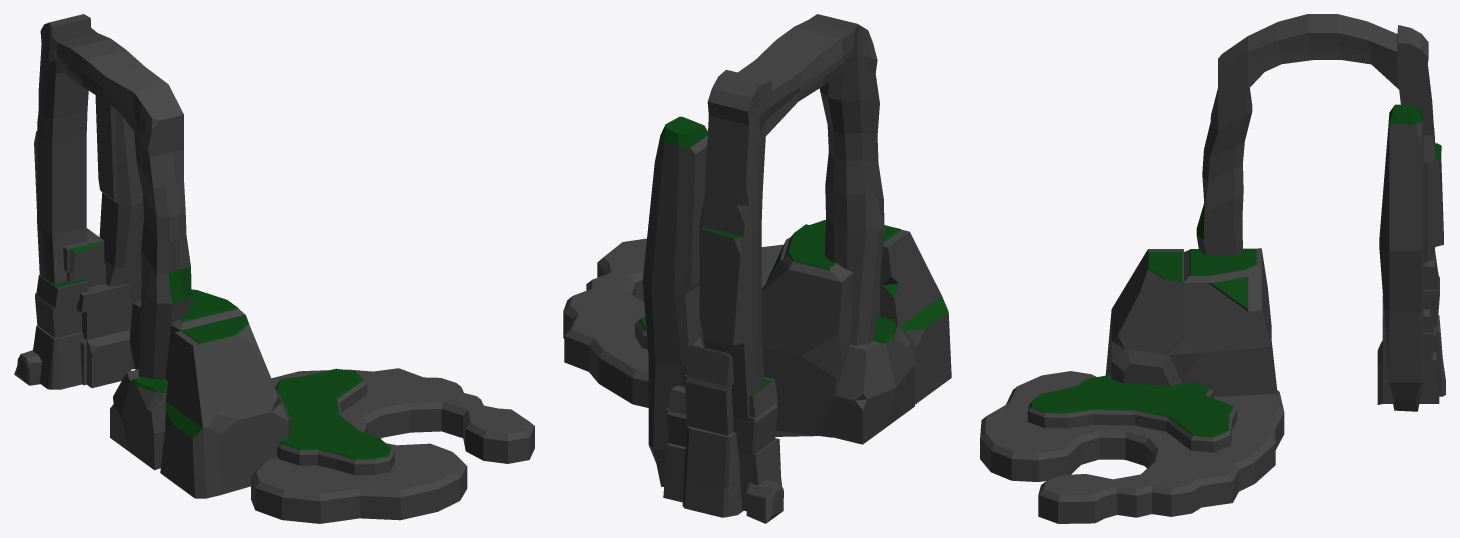
File: stone_arch_1.glb
The picture shows the model from 3 angles, left to right: view 1: azimuth 30°, elevation 25°; view 2: azimuth 150°, elevation 25°; view 3: azimuth 270°, elevation 25°; orthographic projection. The views are drawn at different scales.
Parts seen in each view (by area): view 1: Plane, Cube.005, Cube.007, Cube.003, Cube.001, Cube.002, Cube.006, Cube, Cube.004; view 2: Cube.005, Cube.007, Cube.003, Plane, Cube, Cube.006, Cube.002, Cube.001, Cube.004; view 3: Plane, Cube.007, Cube.005, Cube.003, Cube.001, Cube.
Part boxes in pixels (left/top/right/bottom): Plane: left=251, top=368, right=534, bottom=523; Cube.005: left=34, top=14, right=191, bottom=379; Cube.007: left=129, top=289, right=290, bottom=498; Cube.003: left=95, top=95, right=143, bottom=369; Cube.001: left=76, top=283, right=131, bottom=387; Cube.002: left=33, top=274, right=88, bottom=389; Cube.006: left=110, top=369, right=168, bottom=470; Cube: left=63, top=228, right=105, bottom=287; Cube.004: left=14, top=350, right=42, bottom=385; Cube.005: left=699, top=14, right=884, bottom=420; Cube.007: left=761, top=220, right=951, bottom=437; Cube.003: left=642, top=116, right=707, bottom=486; Plane: left=563, top=238, right=817, bottom=436; Cube: left=682, top=337, right=743, bottom=517; Cube.006: left=822, top=316, right=914, bottom=444; Cube.002: left=733, top=377, right=781, bottom=511; Cube.001: left=663, top=385, right=687, bottom=502; Cube.004: left=746, top=480, right=783, bottom=523; Plane: left=980, top=371, right=1284, bottom=523; Cube.007: left=1105, top=248, right=1277, bottom=396; Cube.005: left=1196, top=14, right=1443, bottom=262; Cube.003: left=1379, top=104, right=1423, bottom=411; Cube.001: left=1377, top=295, right=1439, bottom=404; Cube: left=1423, top=251, right=1445, bottom=396.
Size of the model in its own units: 18.92 by 20.69 by 24.29.
